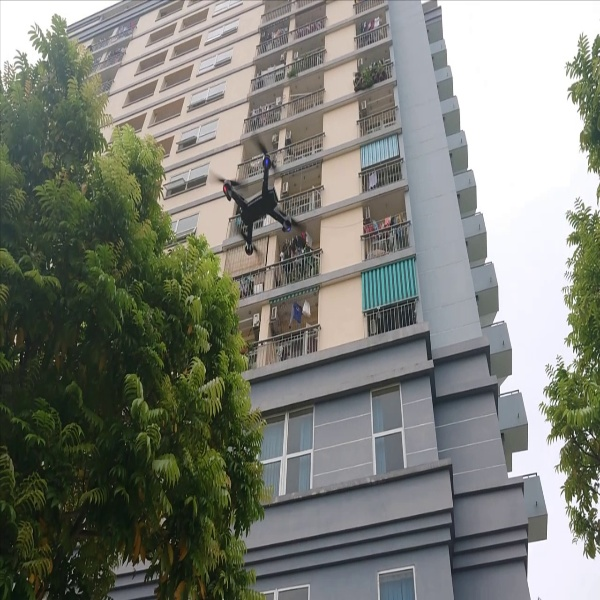drone: (212, 135, 317, 264)
